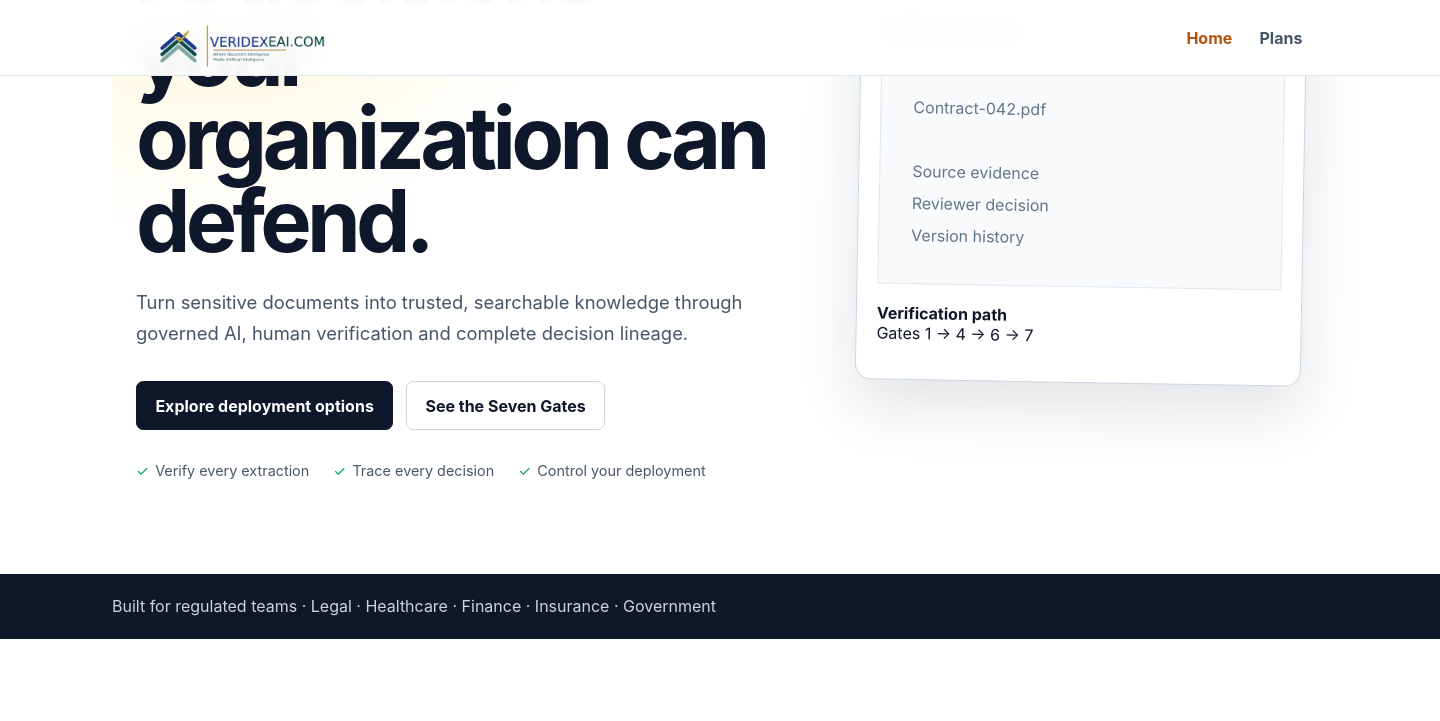
Test: static frontend routes › navigates in both directions
This screenshot has width=1440, height=721.
(page scrolled)
Click the link "Explore deployment options" at [265, 406], box x1=136 y1=381 x2=393 y2=430
(page scrolled)
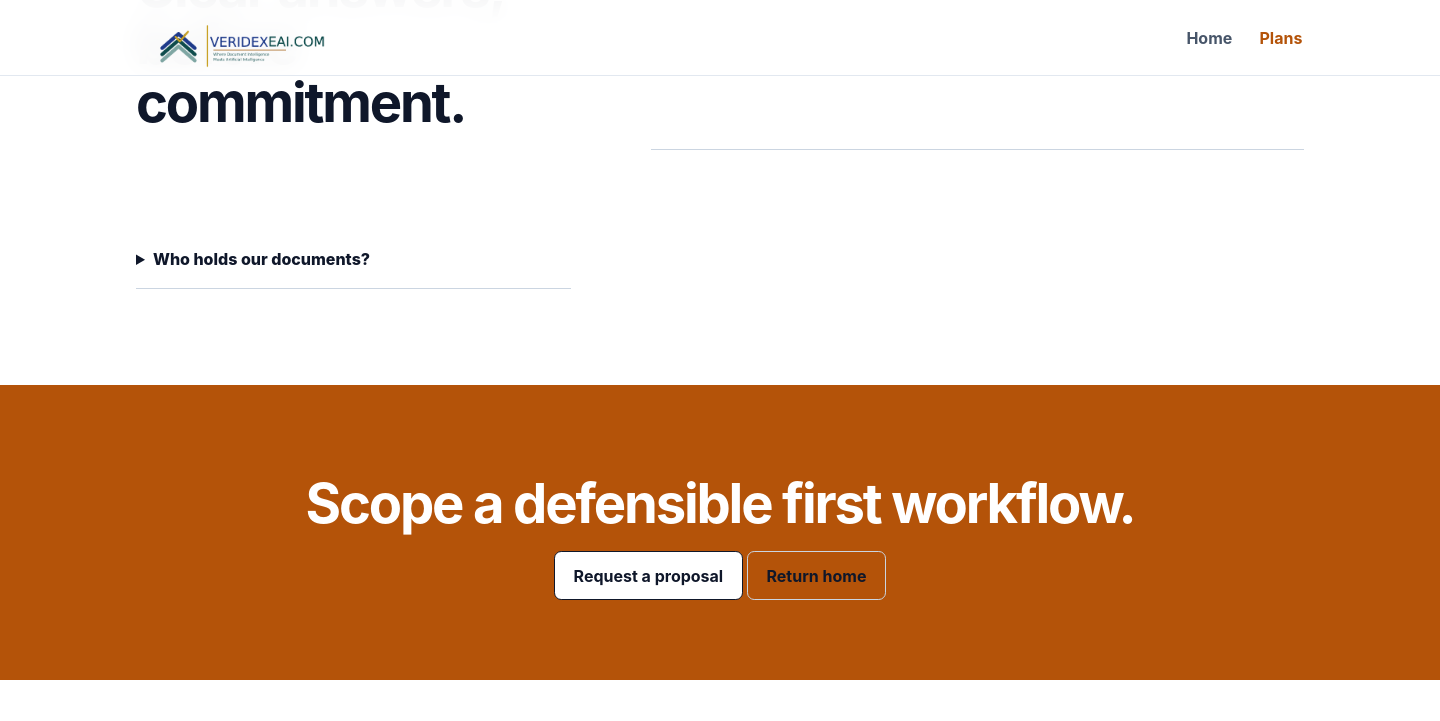
Click the link "Return home" at [816, 576], box x1=747 y1=551 x2=886 y2=600
(page scrolled)
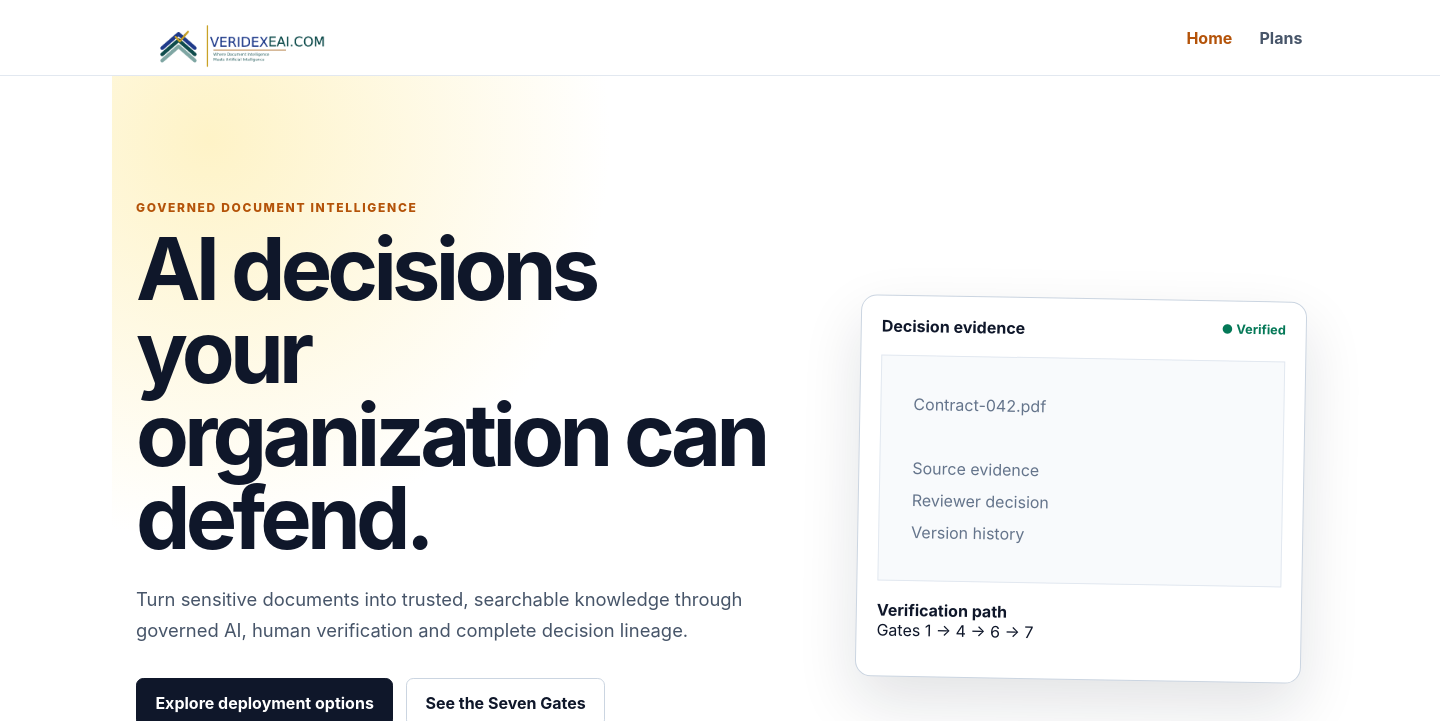
Expected: the heading shows "AI decisions your organization can defend", x1=136 y1=216 x2=766 y2=570
